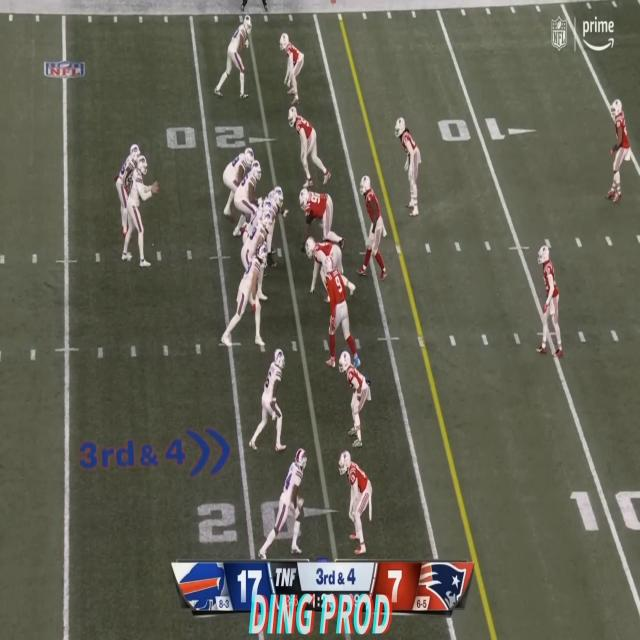players: (258, 449, 311, 562), (222, 238, 272, 354), (120, 144, 160, 270), (319, 260, 362, 368), (248, 349, 288, 456), (603, 97, 640, 208), (288, 106, 335, 192), (338, 450, 376, 554), (357, 173, 392, 282), (534, 239, 565, 361), (217, 12, 256, 104), (335, 354, 371, 450), (237, 204, 280, 280), (393, 118, 425, 219), (230, 156, 268, 239), (304, 240, 353, 302), (300, 186, 344, 254), (222, 148, 256, 226), (250, 186, 288, 252), (277, 28, 308, 107), (239, 0, 272, 21)
